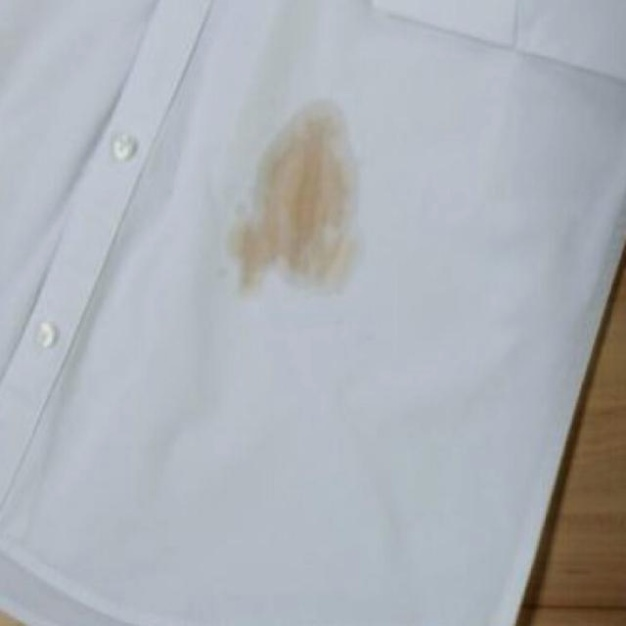coffee: (231, 101, 361, 296)
